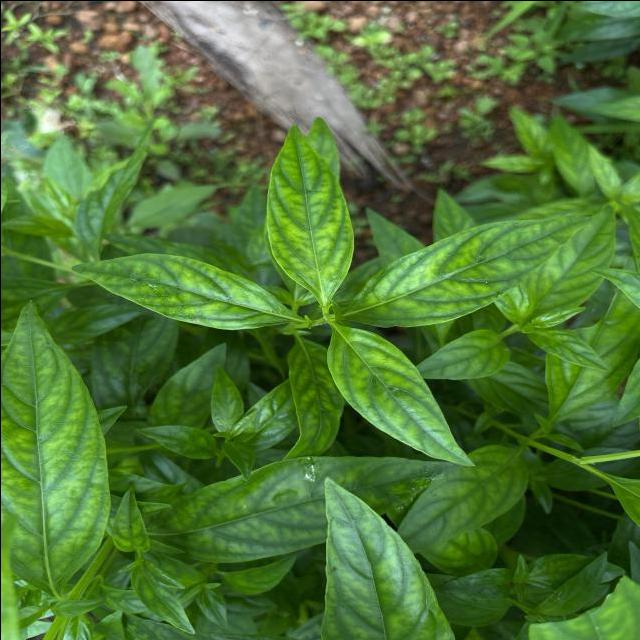Andrographis paniculata: (0, 297, 114, 594), (165, 453, 458, 562), (348, 212, 594, 330), (324, 322, 477, 470), (68, 250, 292, 332), (261, 121, 356, 308), (396, 442, 532, 552), (411, 326, 510, 382), (110, 484, 150, 554)
